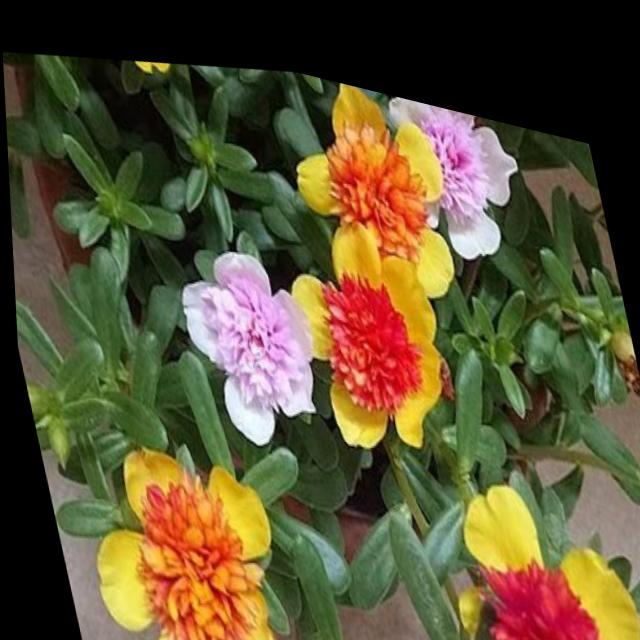Flower: (55, 408, 310, 640), (258, 178, 467, 458), (262, 51, 469, 316), (152, 200, 336, 464), (419, 427, 640, 640), (371, 72, 541, 261)
